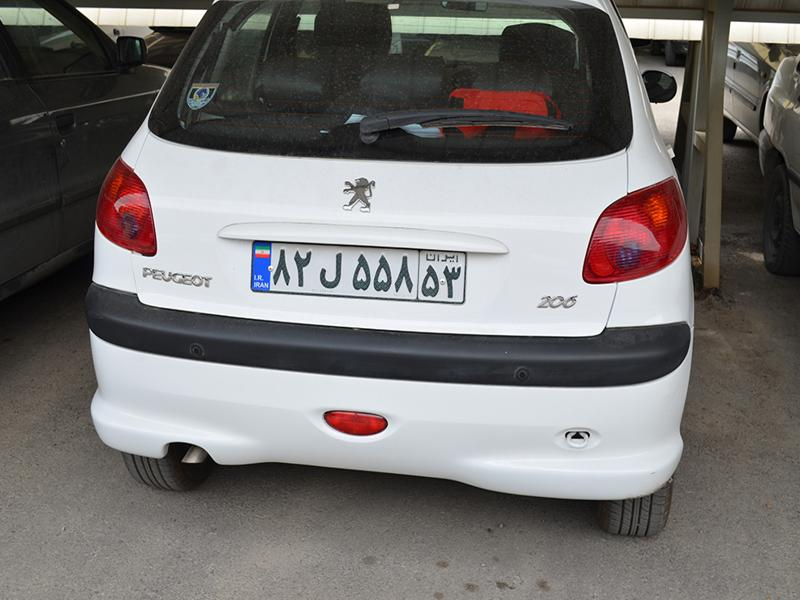Plate: (243, 234, 472, 313)
